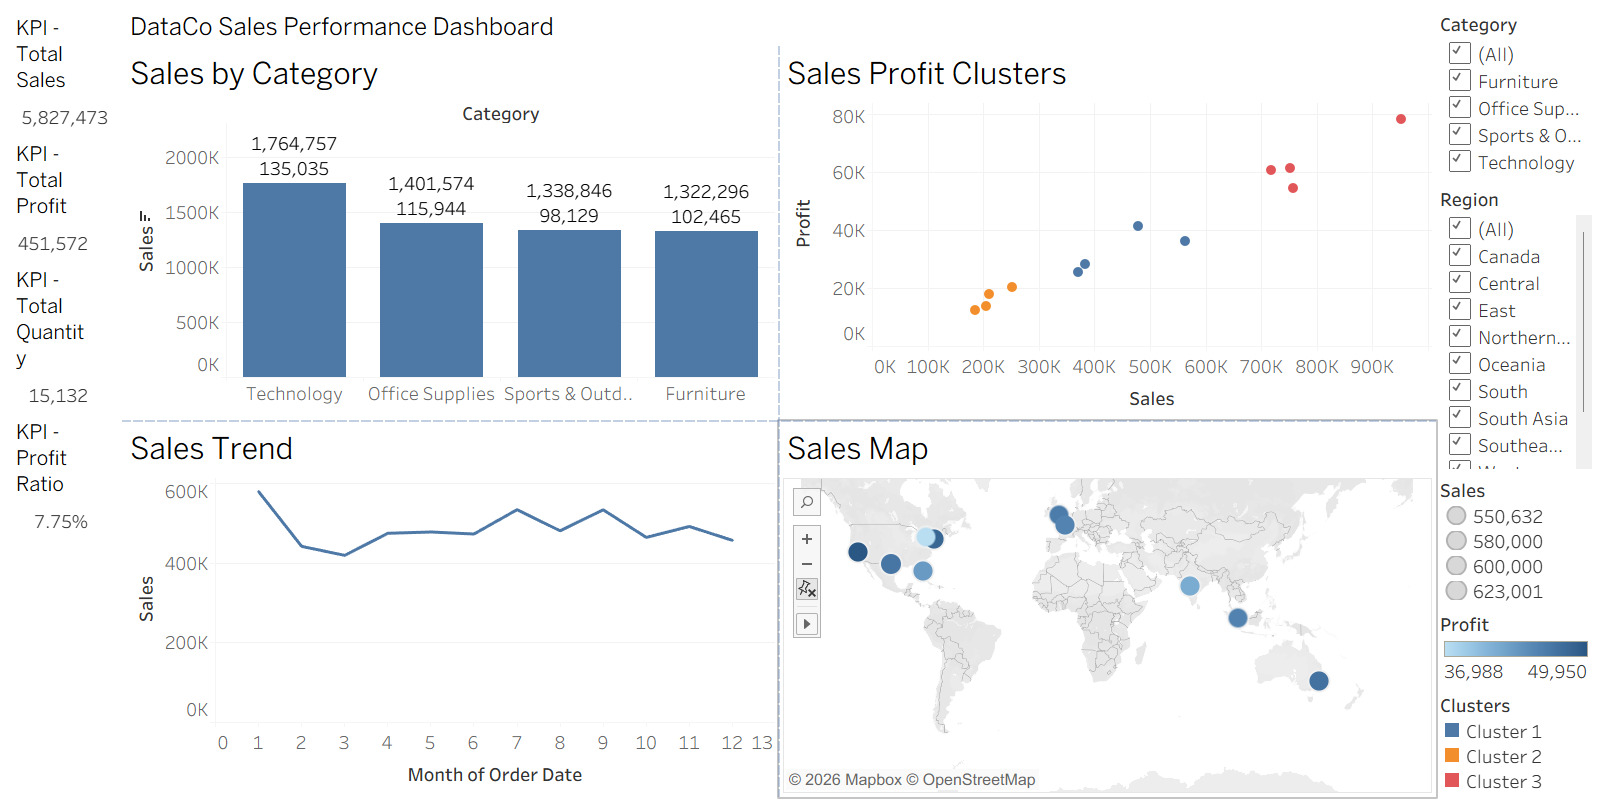

What the dashboard file says about the page in this screenshot:
{"tool":"tableau","page":{"name":"Dashboard 1","canvas":[1000,1000],"units":"permille","ordinal":0},"visuals":[{"type":"title","box":[5,9.9,890.3,48.4]},{"type":"filter","title":"Sheet 5","param":"[federated.0orodyt00meppb124btni0nmvl5z].[none:Category:nk]","box":[895.3,9.9,99.8,217.1]},{"type":"worksheet","title":"Sheet 1","mark":"Automatic","box":[5,58.3,99.1,156.3]},{"type":"worksheet","title":"Sheet 5","mark":"Bar","rows":["Sales"],"cols":["Category"],"box":[104.1,58.3,346,465.8]},{"type":"worksheet","title":"Sheet 10","mark":"Circle","rows":["Profit"],"cols":["Sales"],"box":[450.1,58.3,445.2,465.8]},{"type":"worksheet","title":"Sheet 2","mark":"Automatic","box":[5,214.7,99.1,248.1]},{"type":"filter","title":"Sheet 5","param":"[federated.0orodyt00meppb124btni0nmvl5z].[none:Region:nk]","box":[895.3,227.1,99.8,361]},{"type":"worksheet","title":"Sheet 3","mark":"Automatic","box":[5,524.1,54.9,465.9]},{"type":"worksheet","title":"Sheet 4","mark":"Automatic","box":[59.9,524.1,54.9,465.9]},{"type":"worksheet","title":"Sheet 6","mark":"Line","rows":["Sales"],"cols":["Order_Date"],"box":[122.2,524.1,327.9,465.9]},{"type":"worksheet","title":"Sheet 7","mark":"Automatic","rows":["Latitude"],"cols":["Longitude"],"box":[450.1,524.1,445.2,465.9]},{"type":"legend","title":"Sheet 7","param":"[federated.0orodyt00meppb124btni0nmvl5z].[sum:Sales:qk]","box":[895.3,588.1,99.8,166.3]},{"type":"legend","title":"Sheet 7","param":"[federated.0orodyt00meppb124btni0nmvl5z].[sum:Profit:qk]","box":[895.3,754.3,99.8,100.5]},{"type":"legend","title":"Sheet 10","param":"[federated.0orodyt00meppb124btni0nmvl5z].[none:AdhocCluster:1:ok]","box":[895.3,854.8,99.8,135.2]}]}

Visuals, with their boxes on the dashboard's canvas, which has no fixed pixel size, in thousandths of its width and height (x1, y1, x2, y2). These are canvas units, not pixel positions in the 1603x805 screenshot, which may show the page scaled, cropped or inside an application window:
title: <bbox>5, 10, 895, 58</bbox>
"Sheet 5" filter: <bbox>895, 10, 995, 227</bbox>
"Sheet 1" worksheet: <bbox>5, 58, 104, 215</bbox>
"Sheet 5" worksheet (Bar marks): <bbox>104, 58, 450, 524</bbox>
"Sheet 10" worksheet (Circle marks): <bbox>450, 58, 895, 524</bbox>
"Sheet 2" worksheet: <bbox>5, 215, 104, 463</bbox>
"Sheet 5" filter: <bbox>895, 227, 995, 588</bbox>
"Sheet 3" worksheet: <bbox>5, 524, 60, 990</bbox>
"Sheet 4" worksheet: <bbox>60, 524, 115, 990</bbox>
"Sheet 6" worksheet (Line marks): <bbox>122, 524, 450, 990</bbox>
"Sheet 7" worksheet: <bbox>450, 524, 895, 990</bbox>
"Sheet 7" legend: <bbox>895, 588, 995, 754</bbox>
"Sheet 7" legend: <bbox>895, 754, 995, 855</bbox>
"Sheet 10" legend: <bbox>895, 855, 995, 990</bbox>
